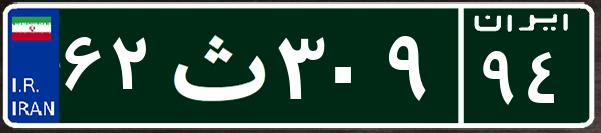0: (330, 28, 385, 110)
2: (110, 28, 158, 105)
3: (273, 28, 330, 110)
4: (525, 38, 570, 115)
6: (57, 26, 110, 107)
9: (385, 28, 445, 110), (475, 38, 525, 113)
ث: (158, 15, 273, 115)
